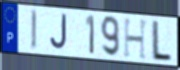1: (84, 14, 96, 57)
9: (99, 15, 121, 59)
H: (123, 18, 150, 62)
I: (30, 8, 39, 52)
J: (49, 13, 69, 53)
L: (149, 19, 174, 64)
